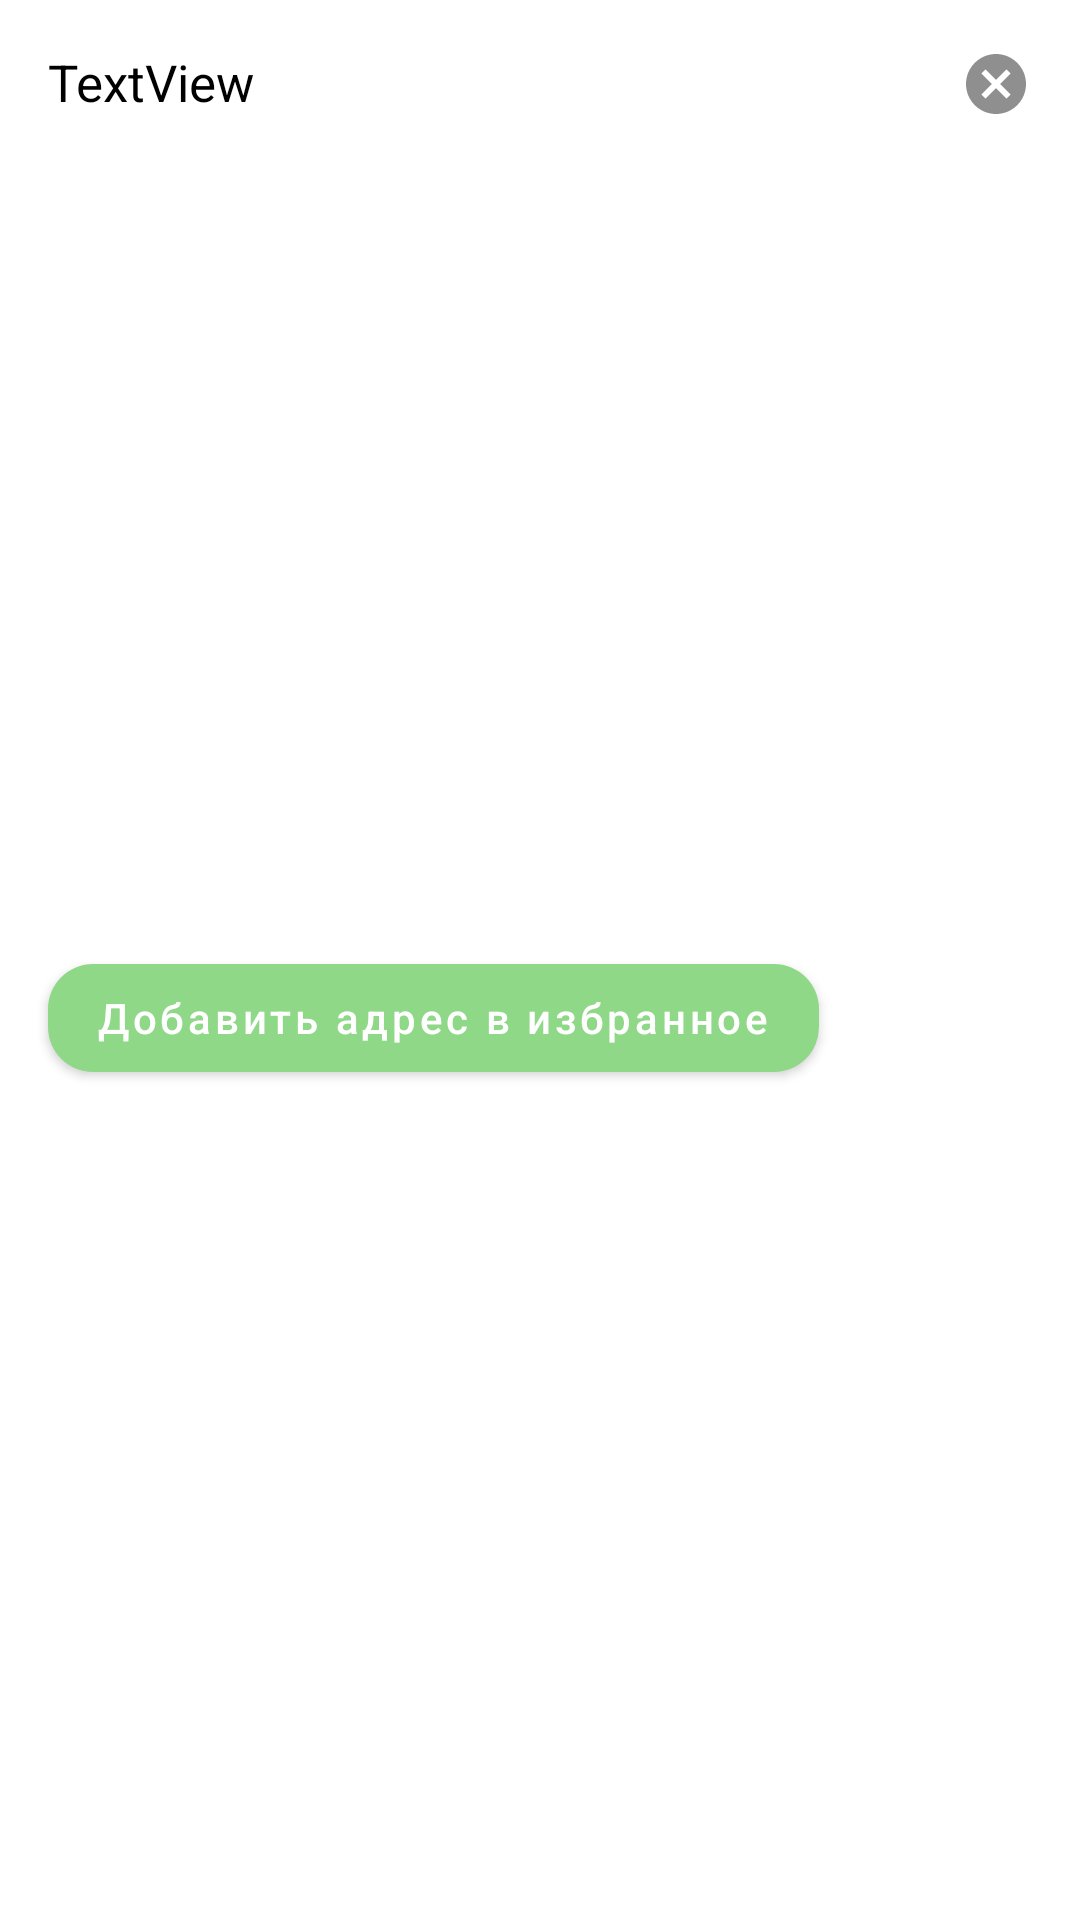

Icons on this 1080w x 1920h Android screen, each with the point to tap as (x=x, y=y):
close: (x=996, y=84)
